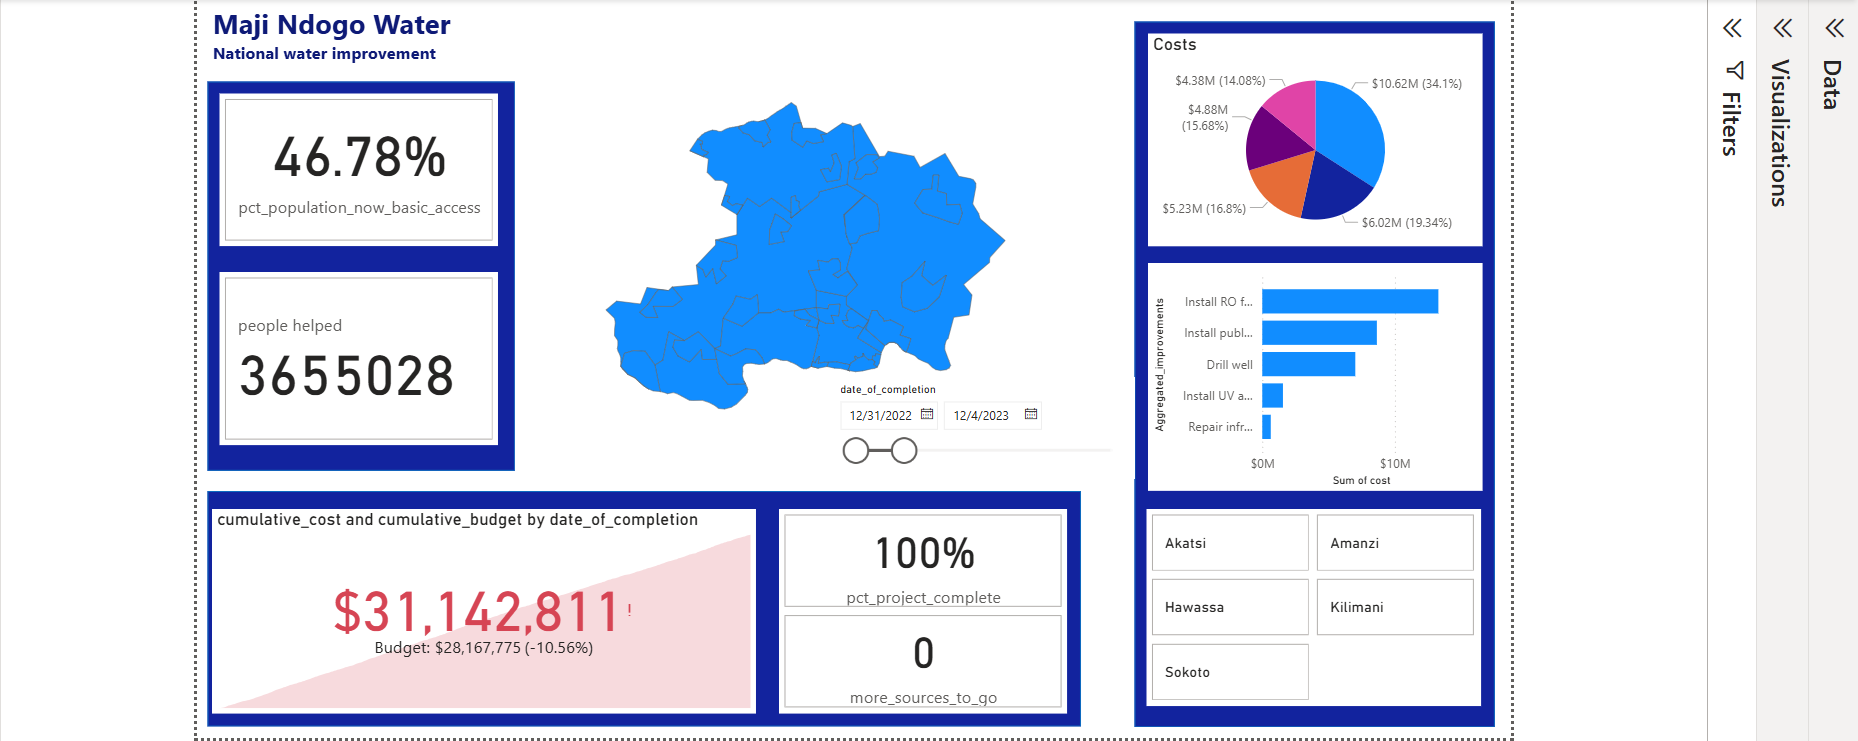

What the dashboard file says about the page in this screenshot:
{"tool":"powerbi","page":{"name":"Overview","canvas":[1280,720],"ordinal":1},"visuals":[{"type":"shape","box":[9.7,79.8,299.6,379.3],"z":0},{"type":"shape","box":[913.3,21.4,351.1,687.7],"z":1000},{"type":"shape","box":[9.7,479.5,851.1,229.5],"z":2000},{"type":"textbox","box":[9.7,0,284,69.1],"z":3000},{"type":"shapeMap","fields":{"Category":["project_progress.town"],"Value":["project_progress.pct_project_complete"]},"box":[317.7,79.4,551,341.9],"z":4000},{"type":"cardVisual","fields":{"Data":["project_progress.pct_project_complete","project_progress.more_sources_to_go"]},"box":[567.1,496.7,280.5,199.1],"z":5000},{"type":"cardVisual","fields":{"Data":["water_source.population_now_basic_access"]},"box":[22.1,266.5,271.5,168.9],"z":6000},{"type":"cardVisual","fields":{"Data":["water_source.pct_population_now_basic_access"]},"box":[22.1,92.5,271.5,148.8],"z":7000},{"type":"slicer","fields":{"Values":["project_progress.date_of_completion"]},"box":[613.4,369,299.6,98.5],"z":8000},{"type":"kpi","fields":{"Indicator":["project_progress.cumulative_cost"],"Goal":["project_progress.cumulative_budget"],"TrendLine":["project_progress.date_of_completion"]},"box":[15.1,496.7,529.9,199.1],"z":9000},{"type":"advancedSlicerVisual","fields":{"Values":["location.province_name"]},"box":[925.1,496.7,325.8,192.1],"z":10000},{"type":"clusteredBarChart","fields":{"Category":["project_progress.Aggregated_improvements"],"Y":["Sum(project_progress.cost)"]},"box":[927.1,257.4,325.8,222.2],"z":11000},{"type":"pieChart","title":"Costs","fields":{"Category":["location.province_name"],"Y":["Sum(project_progress.cost)"]},"box":[927.1,34.2,325.8,207.1],"z":12000}]}

Visuals, with their boxes in screenshot pixels (x1, y1, x2, y2):
shape: [left=213, top=81, right=517, bottom=466]
shape: [left=1129, top=22, right=1485, bottom=719]
shape: [left=213, top=486, right=1076, bottom=719]
textbox: [left=213, top=0, right=501, bottom=70]
shapeMap - project_progress.town x project_progress.pct_project_complete: [left=525, top=81, right=1084, bottom=427]
cardVisual - project_progress.pct_project_complete x project_progress.more_sources_to_go: [left=778, top=504, right=1063, bottom=706]
cardVisual - water_source.population_now_basic_access: [left=226, top=270, right=501, bottom=441]
cardVisual - water_source.pct_population_now_basic_access: [left=226, top=94, right=501, bottom=245]
slicer - project_progress.date_of_completion: [left=825, top=374, right=1129, bottom=474]
kpi - project_progress.cumulative_cost x project_progress.cumulative_budget: [left=219, top=504, right=756, bottom=706]
advancedSlicerVisual - location.province_name: [left=1141, top=504, right=1472, bottom=698]
clusteredBarChart - project_progress.Aggregated_improvements x Sum(project_progress.cost): [left=1143, top=261, right=1474, bottom=486]
"Costs" pieChart: [left=1143, top=35, right=1474, bottom=245]
